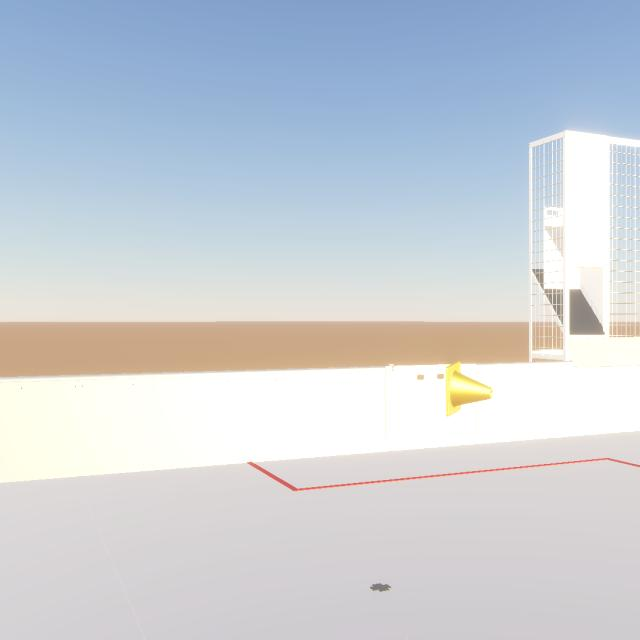frc_cone: (445, 361, 493, 416)
